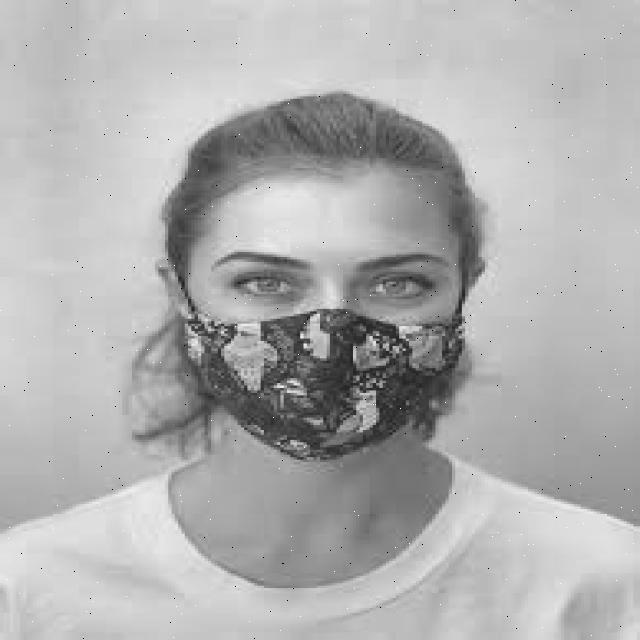fake: (183, 304, 471, 480)
real: (190, 167, 463, 475)
